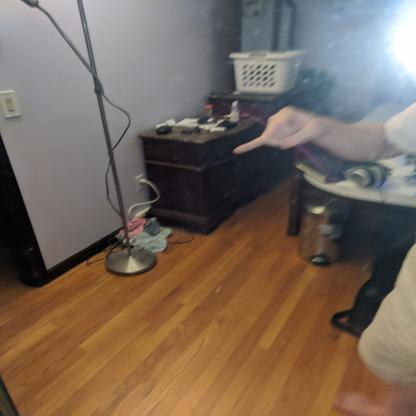J: (230, 102, 328, 160)
